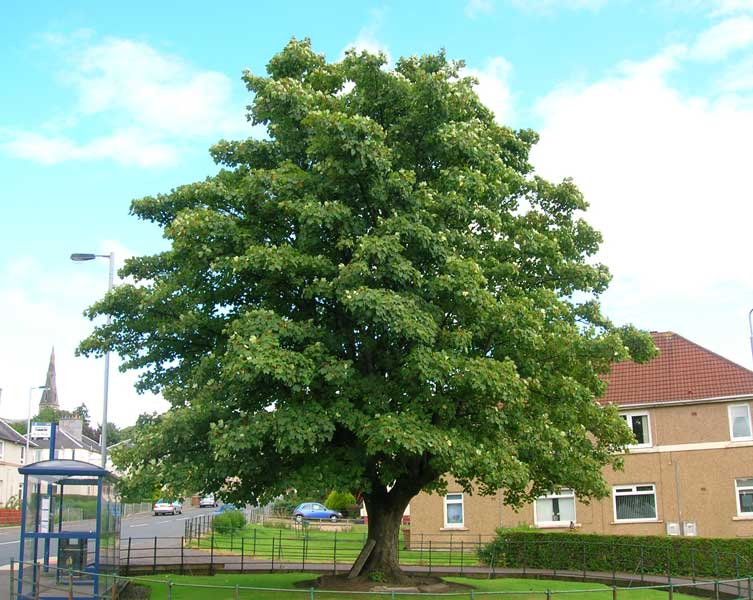tree: (75, 33, 662, 584)
